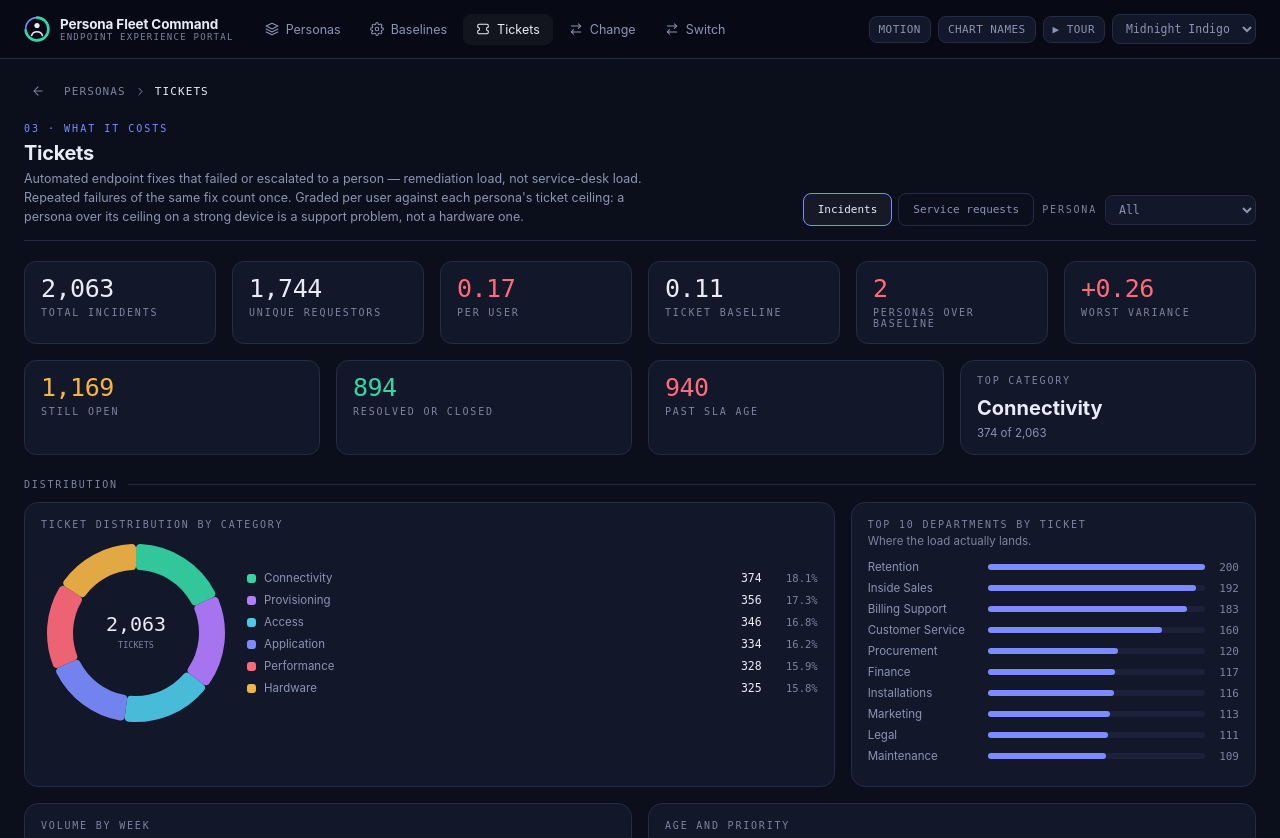
Test: filters › category filter from the legend, with a clear chip
The image size is (1280, 838).
What coordinates should you click on to do the following:
click the button "Provisioning 356 17.3%"
I would click on:
 (297, 600)
Its box is [247,589,818,611].
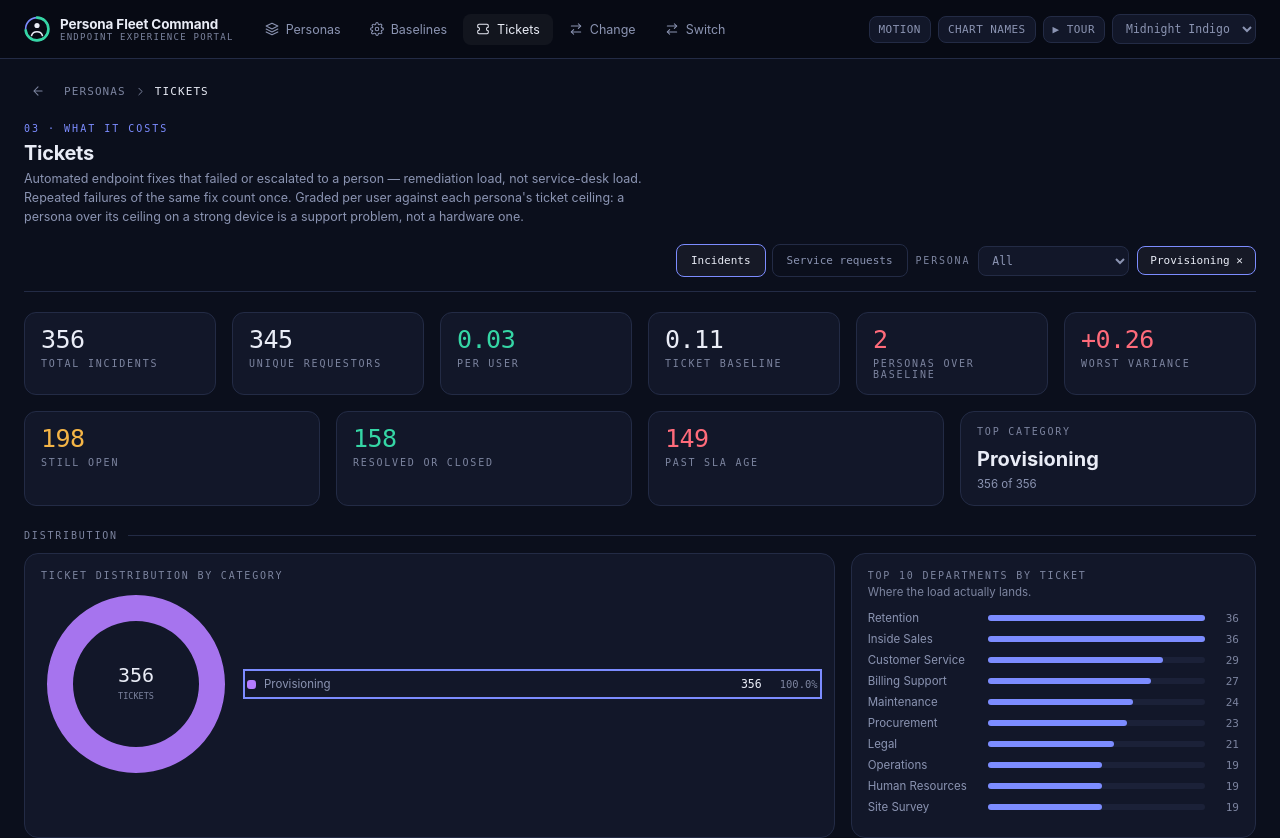
expect the text "0.03" is shown: met, box [457,325,515,354]
What coordinates should you click on to do the following:
click the button "Provisioning ✕"
I would click on:
 (1197, 261)
Its box is [1137,246,1256,275].
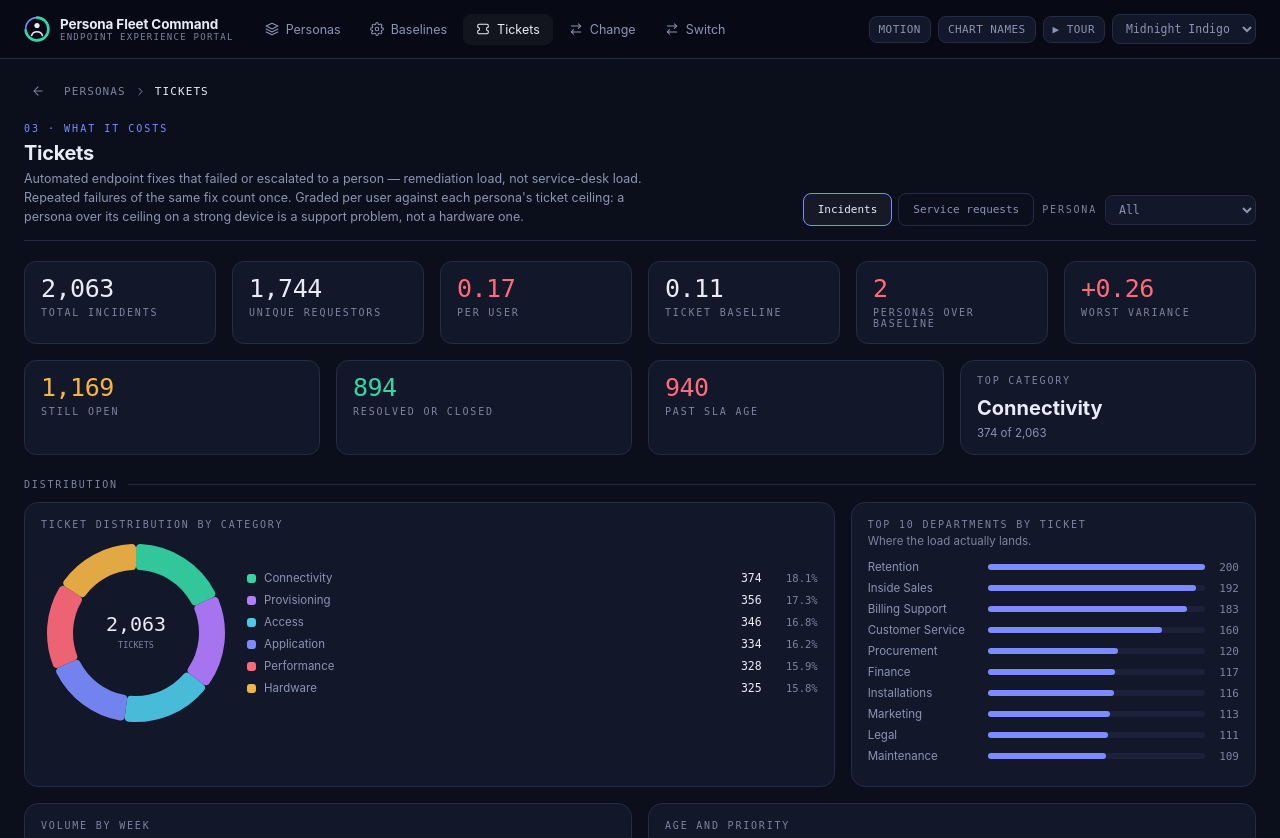
expect the text "2,063" is shown: met, box [41,274,114,303]
